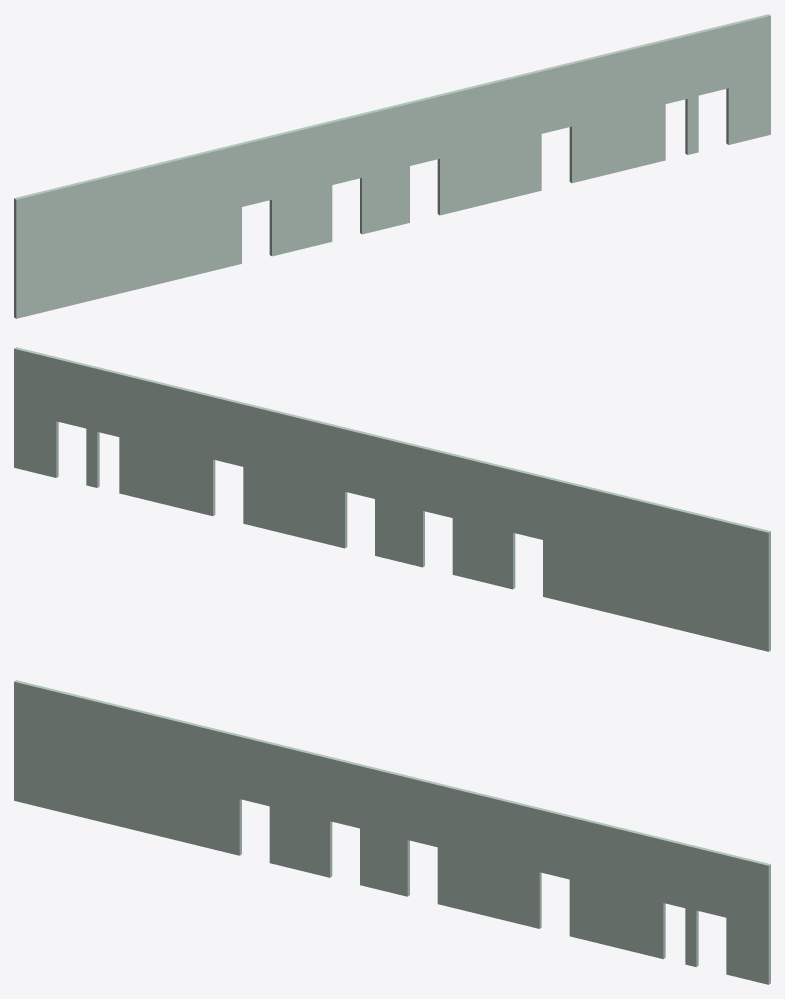
3 views of the same model, one above another, from view 1: azimuth 30°, elevation 25°; view 2: azimuth 150°, elevation 25°; view 3: azimuth 330°, elevation 25° (orthographic).
Visible parts, largest first — view 1: 3n6iKqhBbFL99zS0juokdD_h4645; view 2: 3n6iKqhBbFL99zS0juokdD_h4645; view 3: 3n6iKqhBbFL99zS0juokdD_h4645.
Part boxes in pixels (x1=…): 3n6iKqhBbFL99zS0juokdD_h4645: x1=14, y1=14, x2=770, y2=318; 3n6iKqhBbFL99zS0juokdD_h4645: x1=14, y1=347, x2=770, y2=651; 3n6iKqhBbFL99zS0juokdD_h4645: x1=14, y1=680, x2=770, y2=984.
Bounding box in the file's own units: 29.35 × 4.42 × 0.15.
